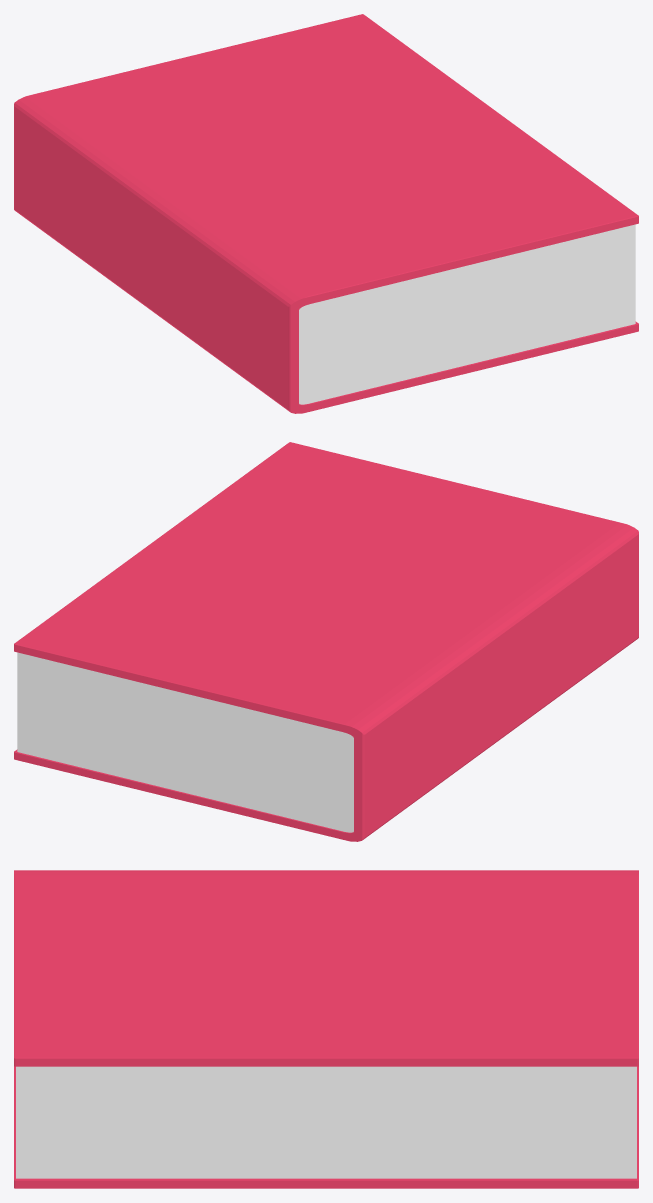
The model's file is bookwcel.glb.
The picture shows the model from 3 angles, top to bottom: view 1: azimuth 30°, elevation 25°; view 2: azimuth 150°, elevation 25°; view 3: azimuth 270°, elevation 25°; orthographic projection. The views are drawn at different scales.
Parts seen in each view (by area): view 1: Cover, Inside; view 2: Cover, Inside; view 3: Cover, Inside.
Boxes of the visible parts, box(x1,y1,x2,y2) form: Cover: box(14, 14, 638, 413); Inside: box(299, 224, 635, 404); Cover: box(14, 442, 638, 841); Inside: box(17, 652, 353, 832); Cover: box(14, 870, 638, 1188); Inside: box(16, 1066, 636, 1178).
Size of the model in its own units: 0.4826 by 0.1524 by 0.66.
Materials: 2 (2 with a texture image).
